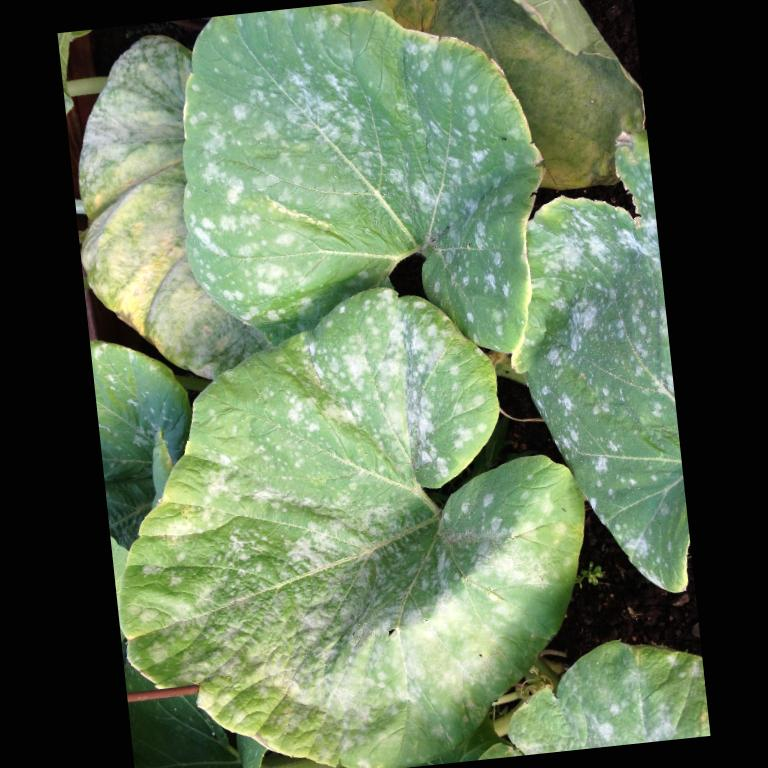powdery-mildew: (228, 50, 382, 172), (525, 219, 661, 356), (336, 318, 448, 456), (401, 112, 503, 222)
